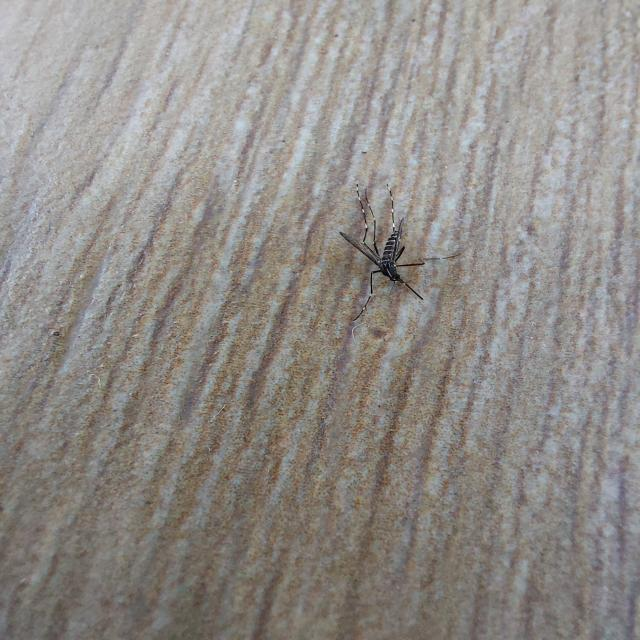albopictus: (326, 176, 466, 333)
